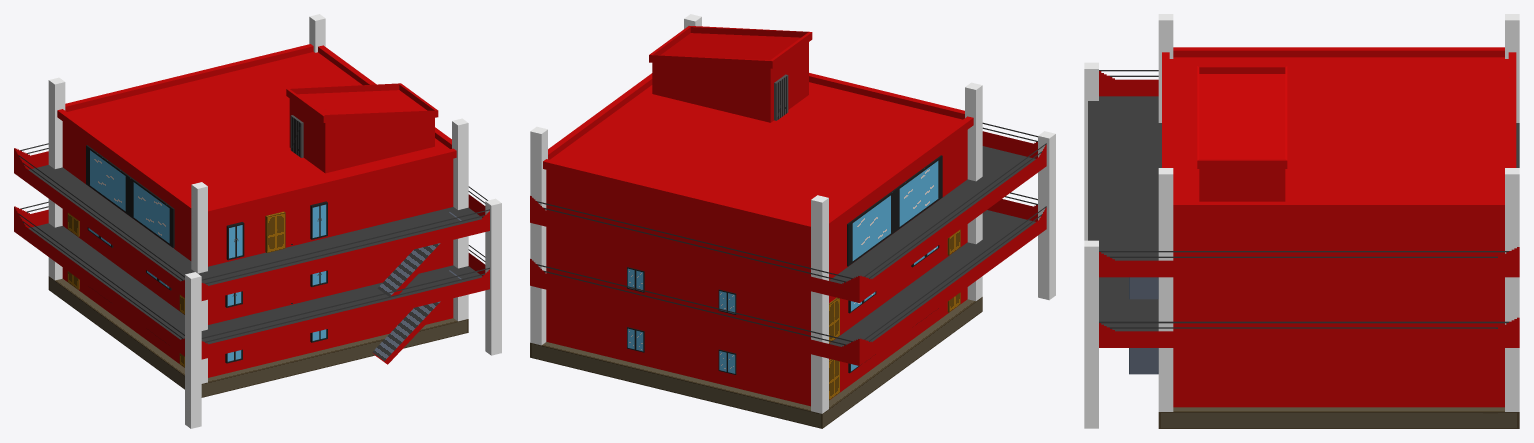
File: House-3A-11.gltf
The picture shows the model from 3 angles, left to right: view 1: azimuth 30°, elevation 25°; view 2: azimuth 150°, elevation 25°; view 3: azimuth 270°, elevation 25°; orthographic projection. The views are drawn at different scales.
Visible parts, largest first — view 1: 2nd wall (×3), 2nd floor (×2), cube (×6), Floorground, wall, Glass (×2), Hagdan (×2), Door (×2), Frame; view 2: 2nd wall (×3), 2nd floor (×2), wall, cube (×4), Floorground, Glass, Frame, Door; view 3: 2nd wall (×3), 2nd floor (×2), wall, cube (×6), Floorground, Hagdan (×2).
Boxes of the visible parts, x1,y1,x2,y2 form: 2nd wall (×3): (57, 44, 456, 324); 2nd floor (×2): (14, 143, 489, 359); cube (×6): (48, 14, 501, 428); Floorground: (48, 276, 468, 397); wall: (62, 267, 453, 377); Glass (×2): (90, 150, 326, 243); Hagdan (×2): (372, 212, 461, 364); Door (×2): (265, 115, 303, 252); Frame: (86, 145, 174, 247); 2nd wall (×3): (543, 26, 973, 339); 2nd floor (×2): (530, 122, 1046, 365); wall: (546, 287, 967, 406); cube (×4): (530, 82, 1055, 413); Floorground: (530, 297, 982, 428); Glass: (852, 161, 938, 260); Frame: (847, 155, 942, 266); Door: (774, 74, 788, 120); 2nd wall (×3): (1162, 47, 1516, 331); 2nd floor (×2): (1088, 70, 1519, 347); wall: (1173, 348, 1504, 407); cube (×6): (1084, 14, 1519, 428); Floorground: (1158, 407, 1519, 428); Hagdan (×2): (1129, 277, 1158, 374).
Size of the model in its own units: 0.7309 by 0.532 by 0.7311.
Materials: 13 (13 with a texture image).
